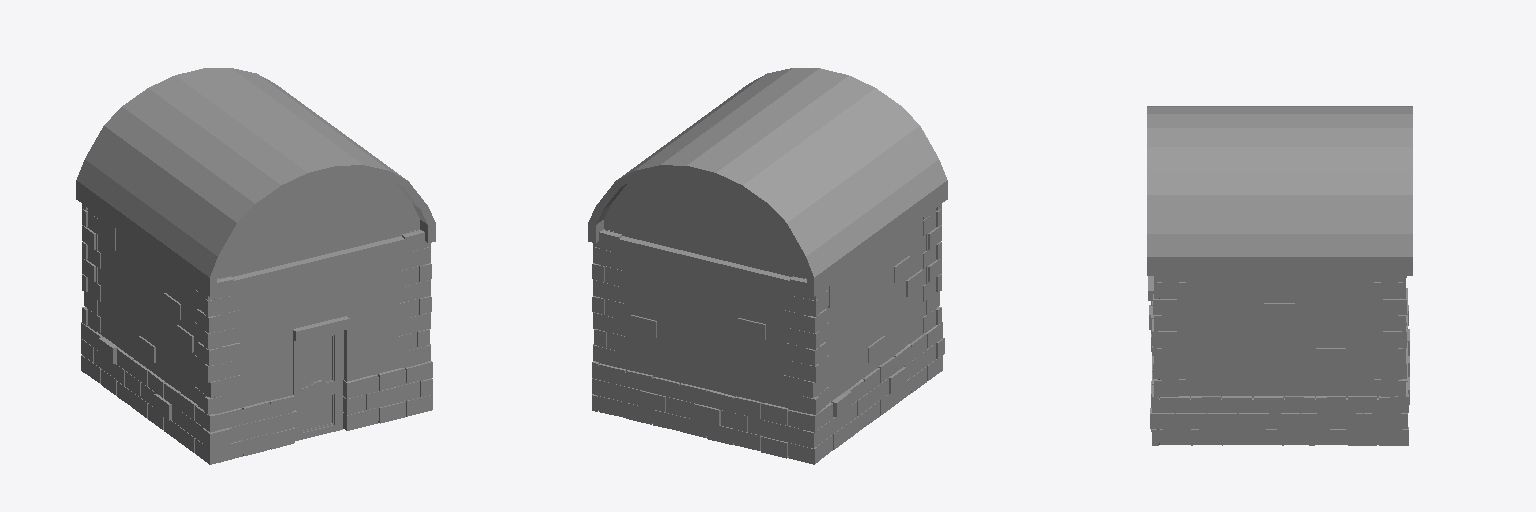
The model's file is 1Story_RoundRoof.obj.
3 renders of one model, left to right at view 1: azimuth 30°, elevation 25°; view 2: azimuth 150°, elevation 25°; view 3: azimuth 270°, elevation 25°, orthographic.
Visible parts, largest first — view 1: 1Story_RoundRoof_Cube.149; view 2: 1Story_RoundRoof_Cube.149; view 3: 1Story_RoundRoof_Cube.149.
Part boxes in pixels (left/top/right/bottom): 1Story_RoundRoof_Cube.149: left=76, top=68, right=435, bottom=464; 1Story_RoundRoof_Cube.149: left=588, top=68, right=947, bottom=464; 1Story_RoundRoof_Cube.149: left=1147, top=106, right=1412, bottom=445.
Size of the model in its own units: 2.09 by 2.38 by 2.13.